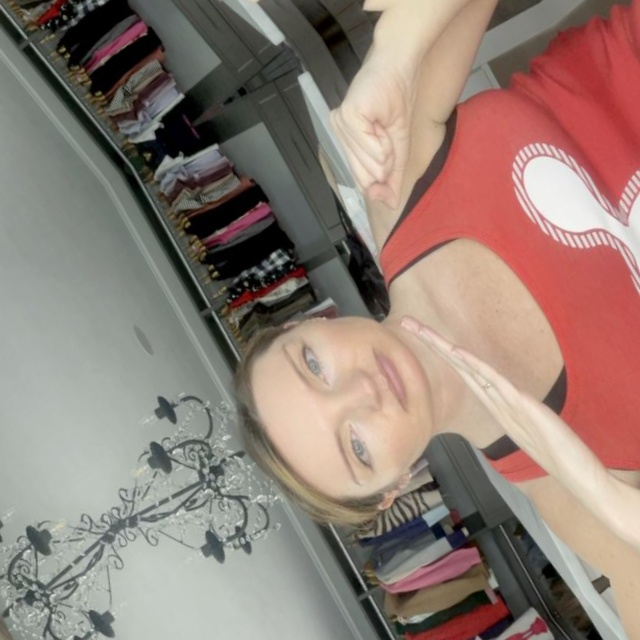Paper: (294, 44, 467, 231)
Rock: (164, 0, 337, 39)
